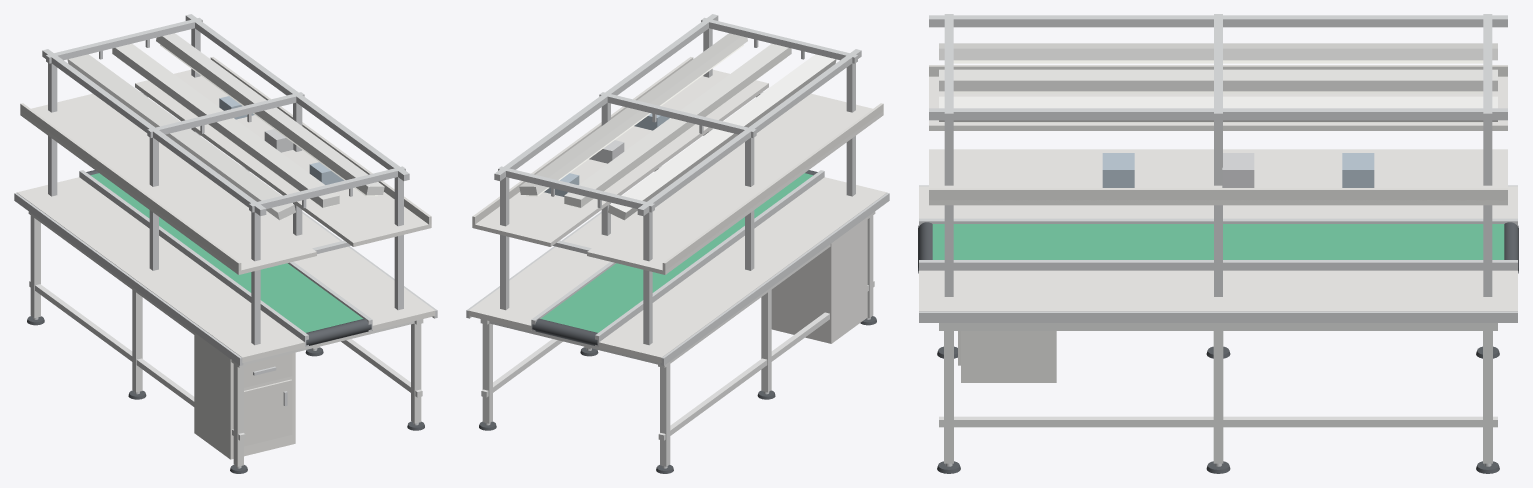
The model's file is phone_line_conveyor_segment.glb.
The picture shows the model from 3 angles, left to right: view 1: azimuth 30°, elevation 25°; view 2: azimuth 150°, elevation 25°; view 3: azimuth 270°, elevation 25°; orthographic projection. The views are drawn at different scales.
Parts seen in each view (by area): view 1: Phone_Line_Conveyor_Segment; view 2: Phone_Line_Conveyor_Segment; view 3: Phone_Line_Conveyor_Segment.
Part boxes in pixels (x1,y1,x2,y2): Phone_Line_Conveyor_Segment: (14, 14, 437, 473); Phone_Line_Conveyor_Segment: (466, 14, 889, 473); Phone_Line_Conveyor_Segment: (918, 14, 1518, 473).
Bounding box in the file's own units: 1.52 × 1.92 × 3.01.
